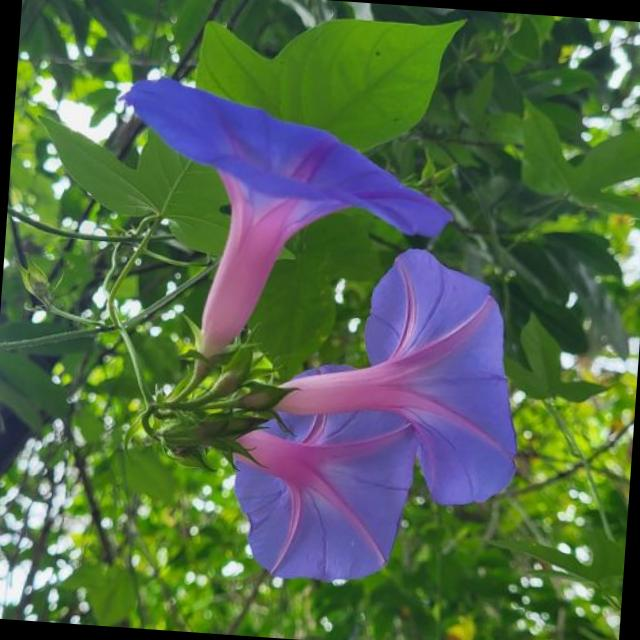ipomoea: (83, 68, 547, 599), (220, 232, 536, 600), (99, 68, 464, 380)
